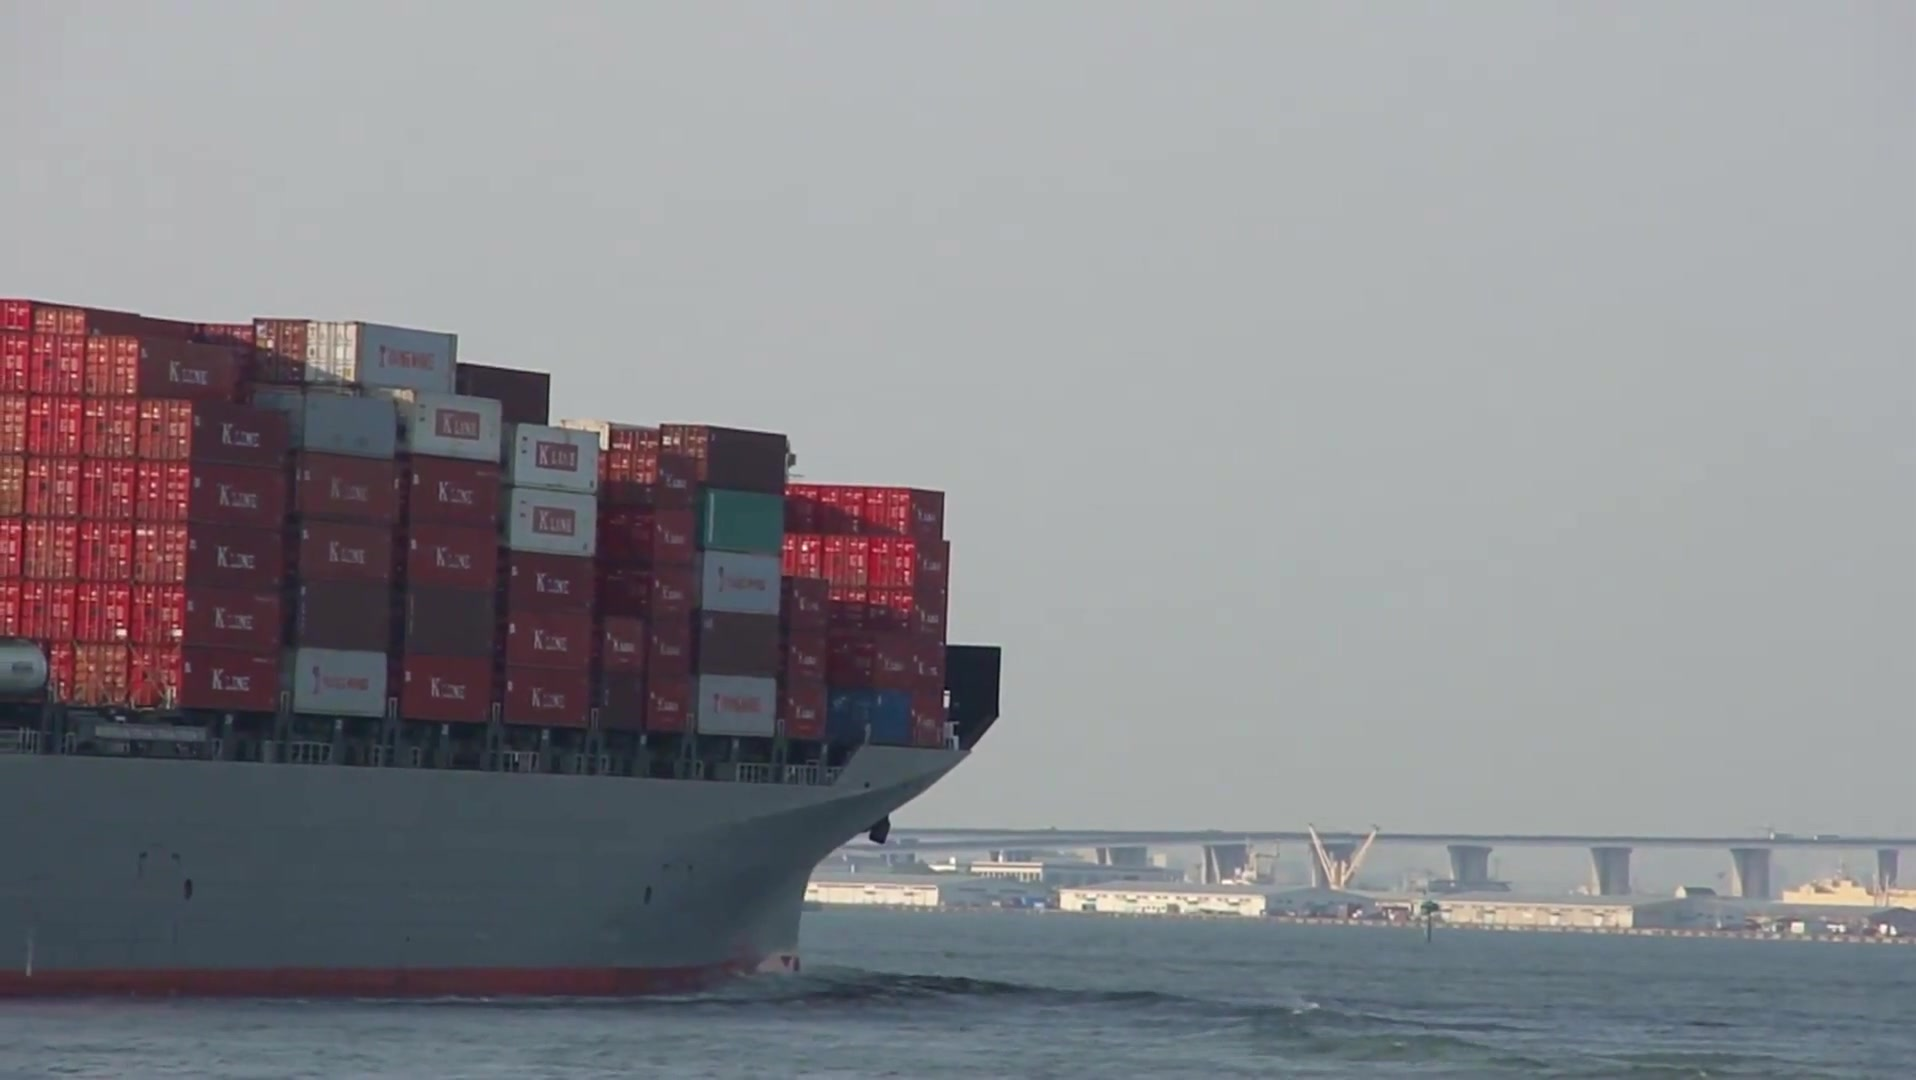boat: (1, 283, 1009, 1012)
